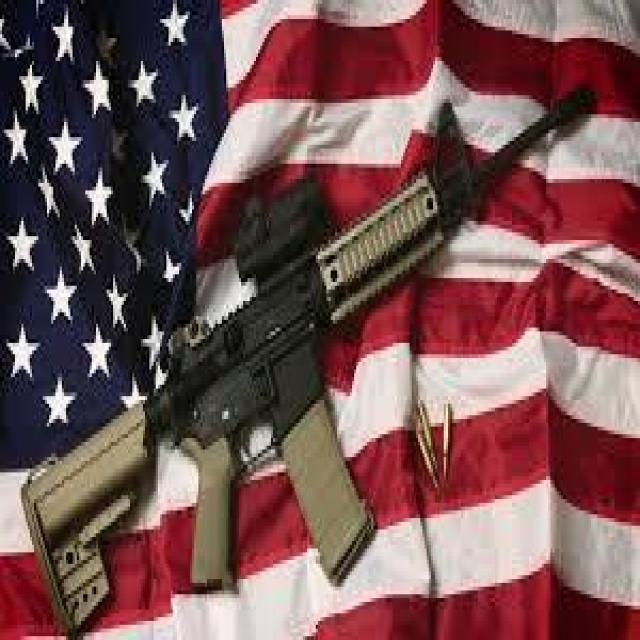weapon: (18, 80, 596, 640)
